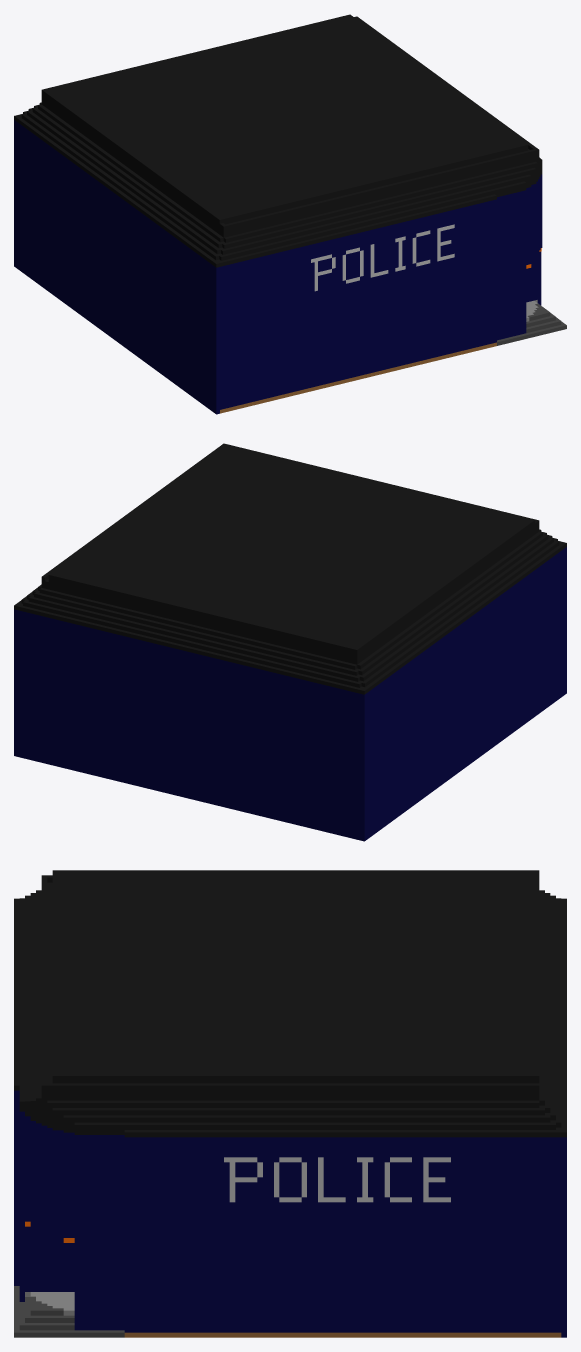
Rendered from police filled good.obj.
The picture shows the model from 3 angles, top to bottom: view 1: azimuth 30°, elevation 25°; view 2: azimuth 150°, elevation 25°; view 3: azimuth 270°, elevation 25°; orthographic projection. The views are drawn at different scales.
Visible parts, largest first — view 1: Police Station; view 2: Police Station; view 3: Police Station.
Part boxes in pixels (left/top/right/bottom): Police Station: left=14, top=14, right=566, bottom=414; Police Station: left=14, top=443, right=566, bottom=841; Police Station: left=14, top=870, right=566, bottom=1337.
Bounding box in the file's own units: 10 × 4.9 × 10.
Materials: 1 (1 with a texture image).
